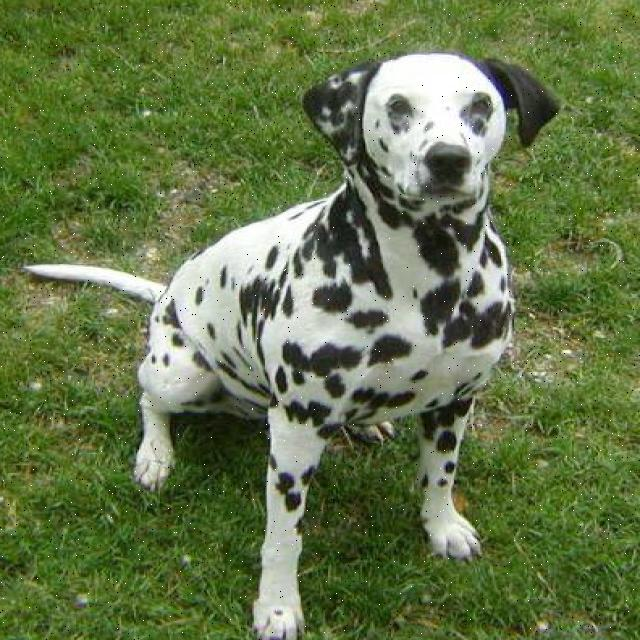Dog: (299, 31, 562, 227)
